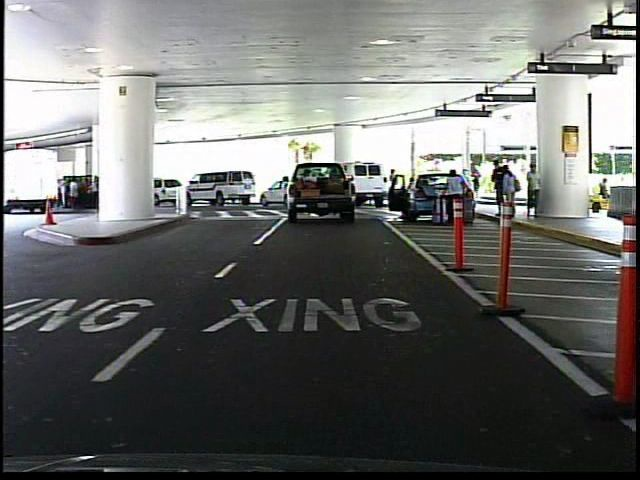person: (440, 163, 466, 227), (521, 159, 544, 222), (386, 165, 404, 211)
